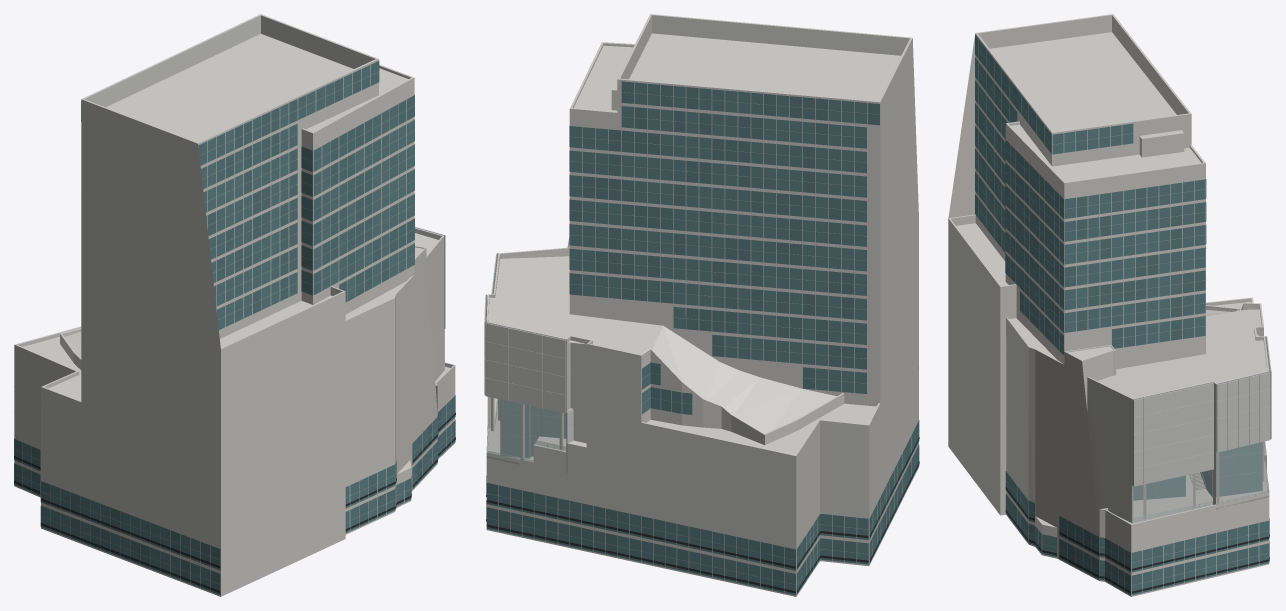
File: parco.glb
3 renders of one model, left to right at view 1: azimuth 30°, elevation 25°; view 2: azimuth 150°, elevation 25°; view 3: azimuth 270°, elevation 25°, orthographic. The views are drawn at different scales.
Parts seen in each view (by area): view 1: d24_exact_parco_0, parco_roof, parco_glass0, parco_glass2, parco_glass1, parco_frame, parco_sign_housing; view 2: d24_exact_parco_0, parco_roof, parco_glass0, parco_glass2, parco_glass1, parco_frame, parco_podium_cladding, prototype_terrace_glass, parco_sign_housing, prototype_terrace_structure, prototype_terrace_floor, d24_exact_parco_1; view 3: d24_exact_parco_0, parco_roof, parco_glass2, parco_glass1, parco_glass0, parco_podium_cladding, parco_frame, prototype_terrace_glass, prototype_terrace_floor, parco_sign_housing, prototype_terrace_structure, d24_exact_parco_1 (+3 smaller).
Part boxes in pixels (x1,y1,x2,y2): d24_exact_parco_0: [14, 15, 455, 596]; parco_roof: [14, 14, 454, 474]; parco_glass0: [14, 69, 455, 594]; parco_glass2: [23, 73, 450, 591]; parco_glass1: [14, 61, 455, 587]; parco_frame: [14, 60, 455, 591]; parco_sign_housing: [14, 413, 455, 592]; d24_exact_parco_0: [486, 15, 918, 596]; parco_roof: [486, 14, 912, 455]; parco_glass0: [486, 81, 919, 592]; parco_glass2: [498, 90, 916, 595]; parco_glass1: [510, 82, 913, 594]; parco_frame: [487, 83, 919, 594]; parco_podium_cladding: [484, 253, 565, 413]; prototype_terrace_glass: [500, 399, 566, 458]; parco_sign_housing: [486, 437, 919, 593]; prototype_terrace_structure: [491, 397, 573, 473]; prototype_terrace_floor: [486, 398, 566, 464]; d24_exact_parco_1: [488, 123, 918, 594]; d24_exact_parco_0: [948, 15, 1269, 596]; parco_roof: [949, 14, 1269, 527]; parco_glass2: [975, 40, 1216, 577]; parco_glass1: [975, 35, 1269, 591]; parco_glass0: [975, 55, 1269, 595]; parco_podium_cladding: [1133, 336, 1271, 486]; parco_frame: [975, 46, 1268, 595]; prototype_terrace_glass: [1133, 442, 1262, 500]; prototype_terrace_floor: [1133, 441, 1269, 523]; parco_sign_housing: [1005, 487, 1269, 593]; prototype_terrace_structure: [1131, 441, 1265, 523]; d24_exact_parco_1: [1005, 136, 1267, 595].
Size of what is drawn, in the model's own units: 95.32 by 101 by 72.43.
